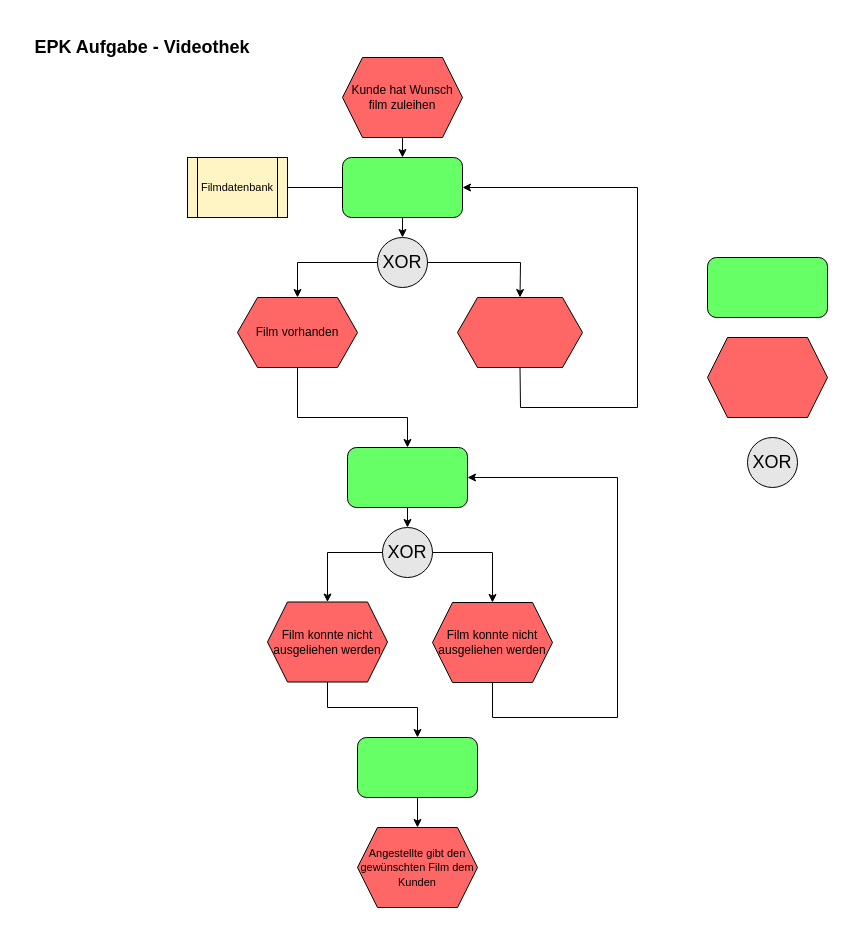
Some shapes in this 845 by 925 pixel diagram are drawn without their labels. Here are the shapes that lost their labels. From the top down, the box of each, then its label:
(342, 156, 462, 218): Prüfen ob Film vorhanden
(456, 296, 582, 368): FIlm nicht vorhanden
(346, 446, 468, 508): Prüfen ob Film ausgeliehen
(356, 736, 478, 798): Kunde zahlt Leihgebühr
